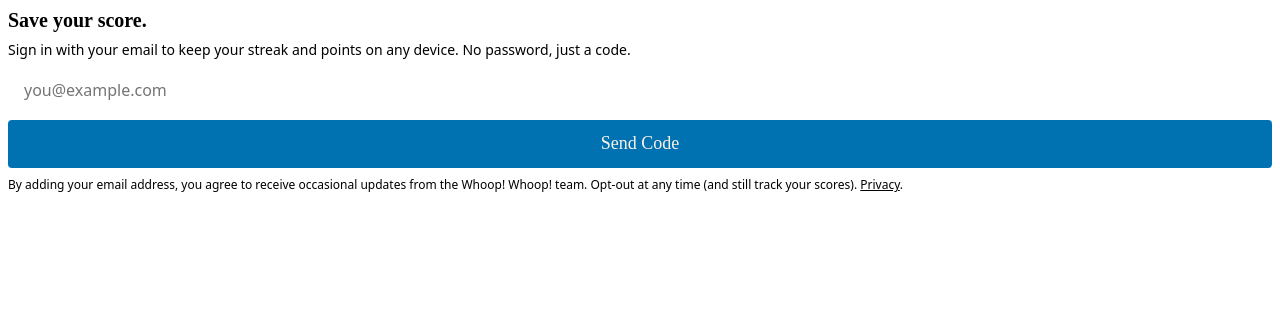
Scenario: optional sign-in › a typed email reveals nothing before verification
In the field named "Email address": (640, 90) [8,68,1272,112], type "a@b.co"
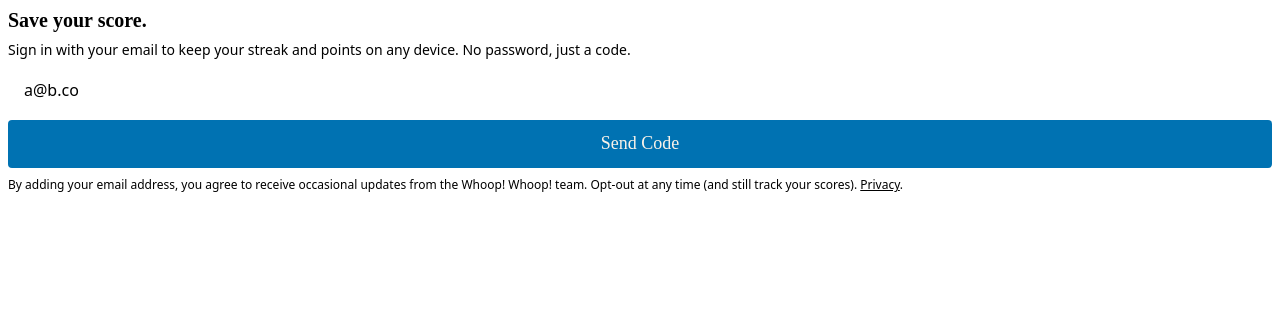
Click the button "Send Code": (640, 144) [8,120,1272,168]
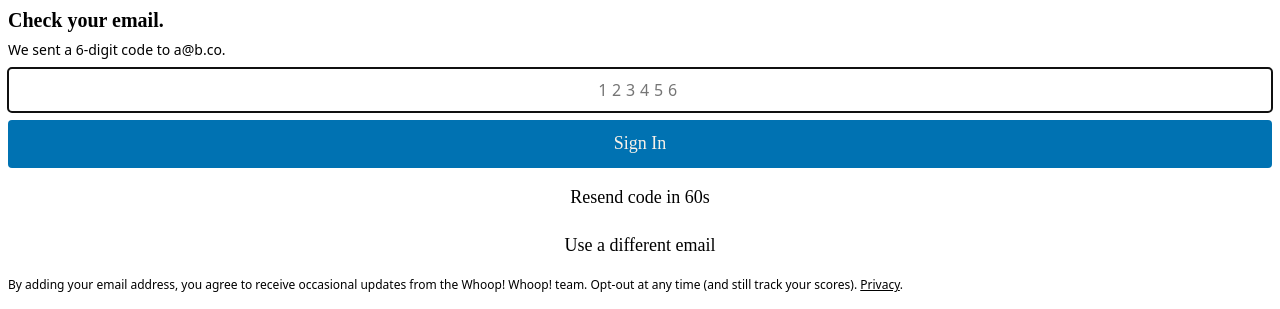
expect the field named "6-digit code" has attribute autocomplete="one-time-code": met, box [8,68,1272,112]
